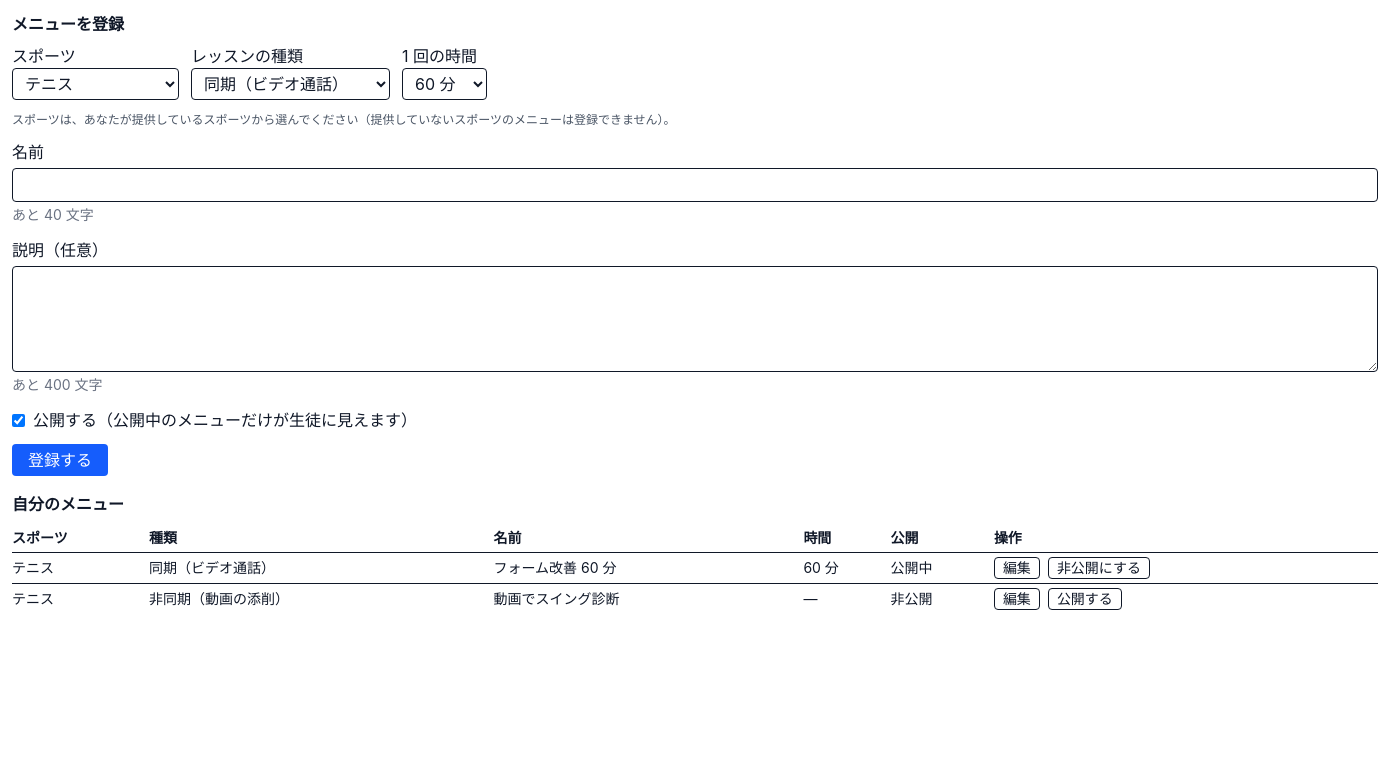
Test case: レッスンメニュー › 作成: サーバーが断った（422）ら、提供スポーツを確かめるよう添えて出し、入力は残す
Expected: the table named "自分のメニュー" is shown, [12, 524, 1378, 614]
Select "ゴルフ" in the dropdown labelled "スポーツ". click: (96, 84)
box: [12, 68, 179, 100]
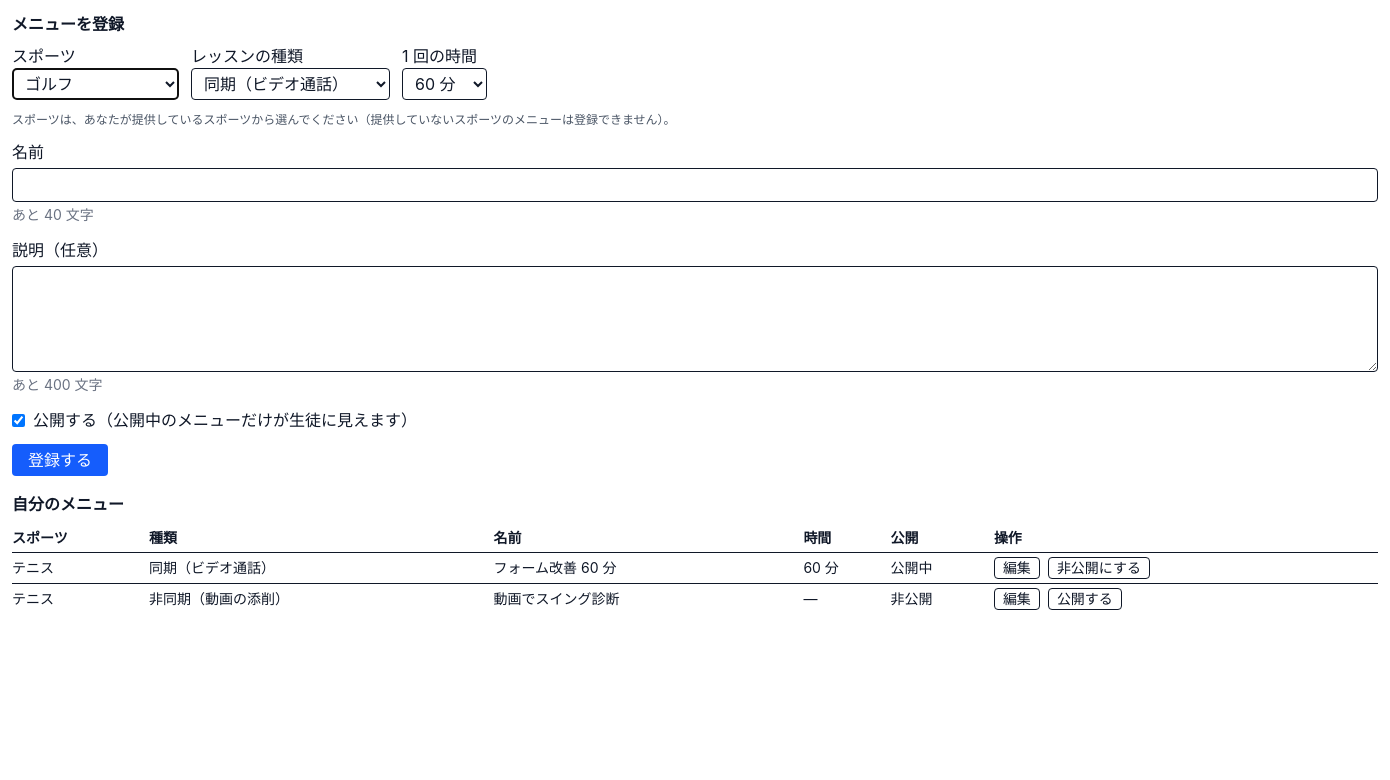
Type "パター" into the field labelled "名前". click: (695, 185)
box: [12, 168, 1378, 202]
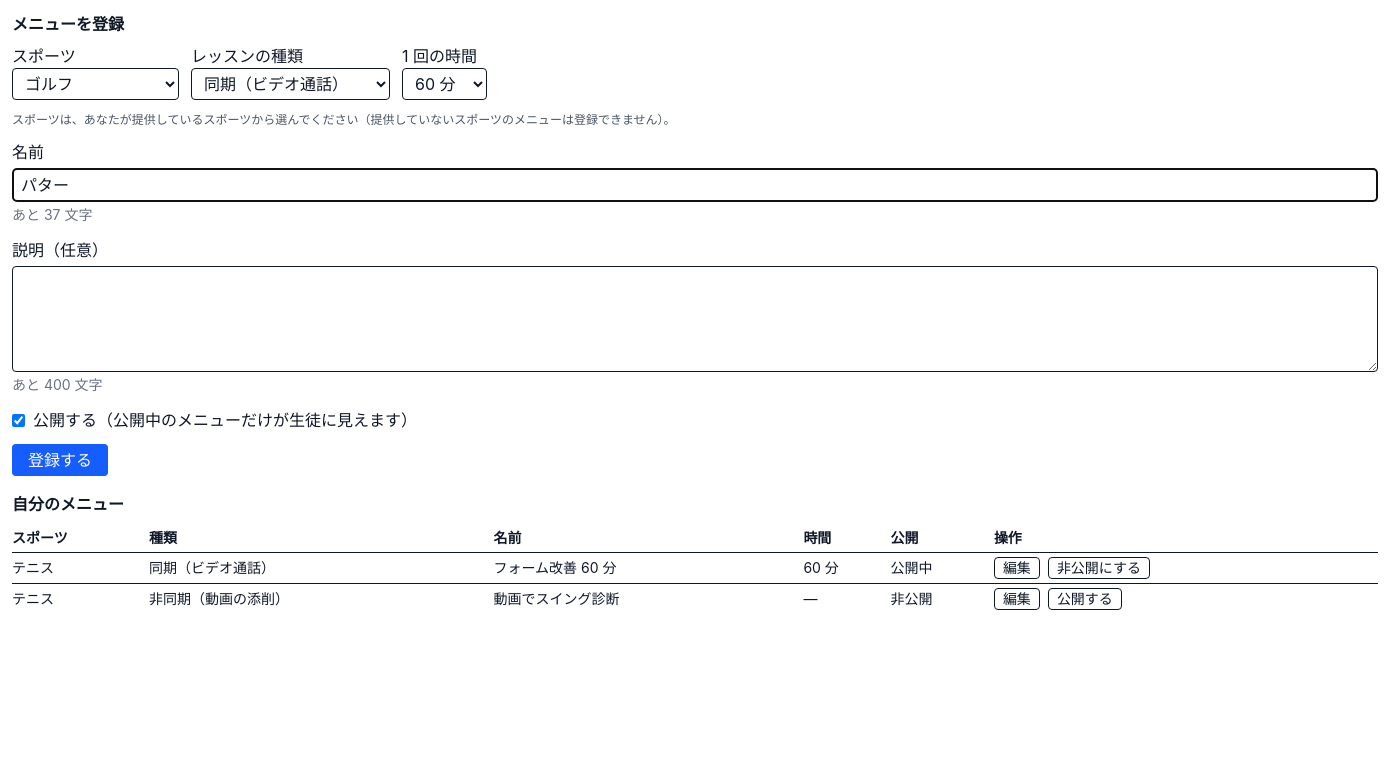
Click the button "登録する". click: (60, 460)
box: [12, 444, 108, 476]
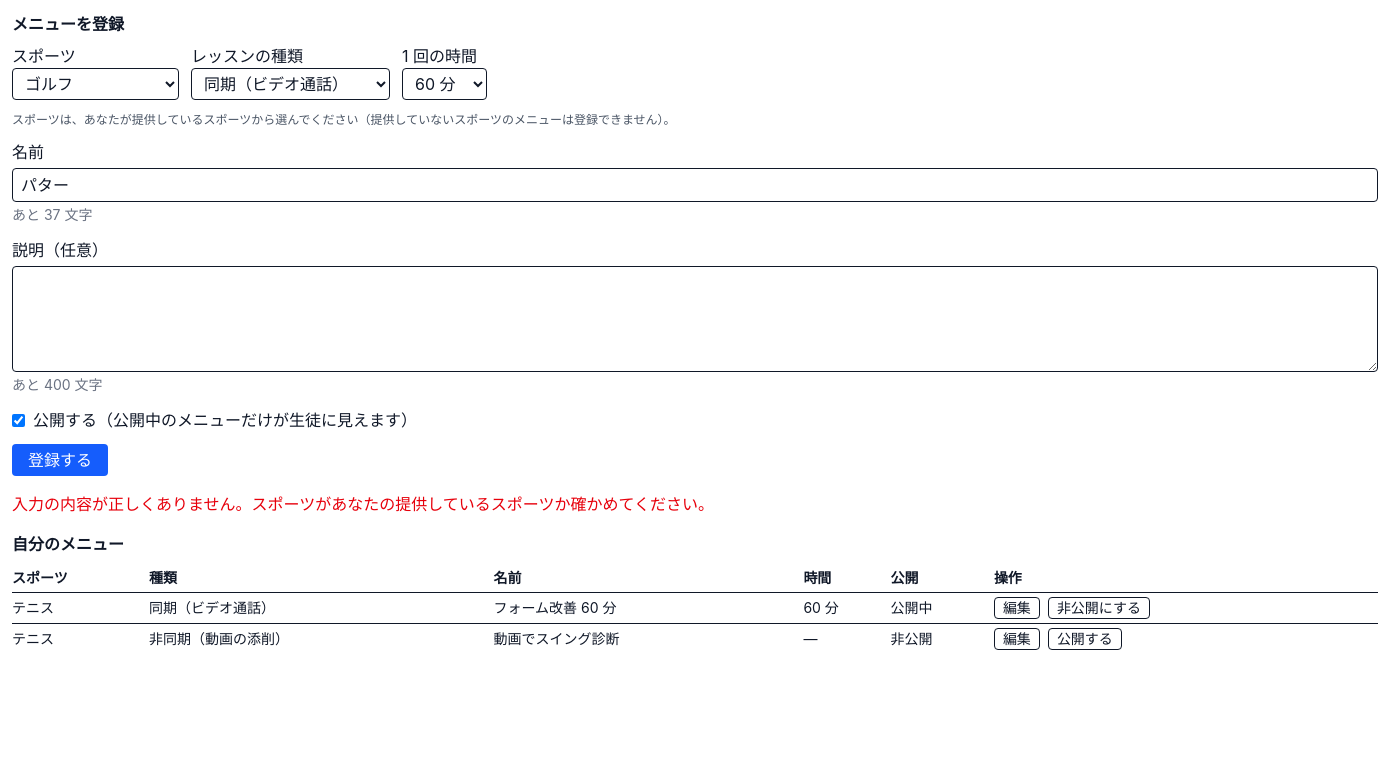
Result: the message reads "入力の内容が正しくありません。スポーツがあなたの提供しているスポーツか確かめてください。" at [12, 494, 714, 514]
